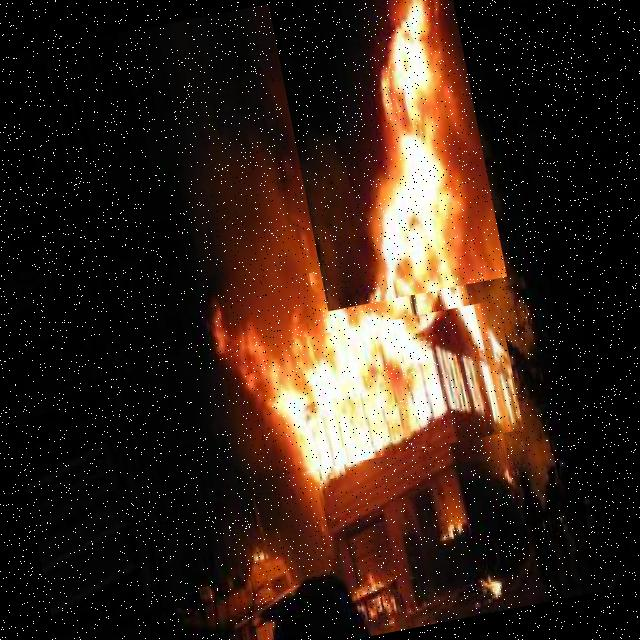fire: (269, 0, 507, 311), (220, 300, 524, 483)
